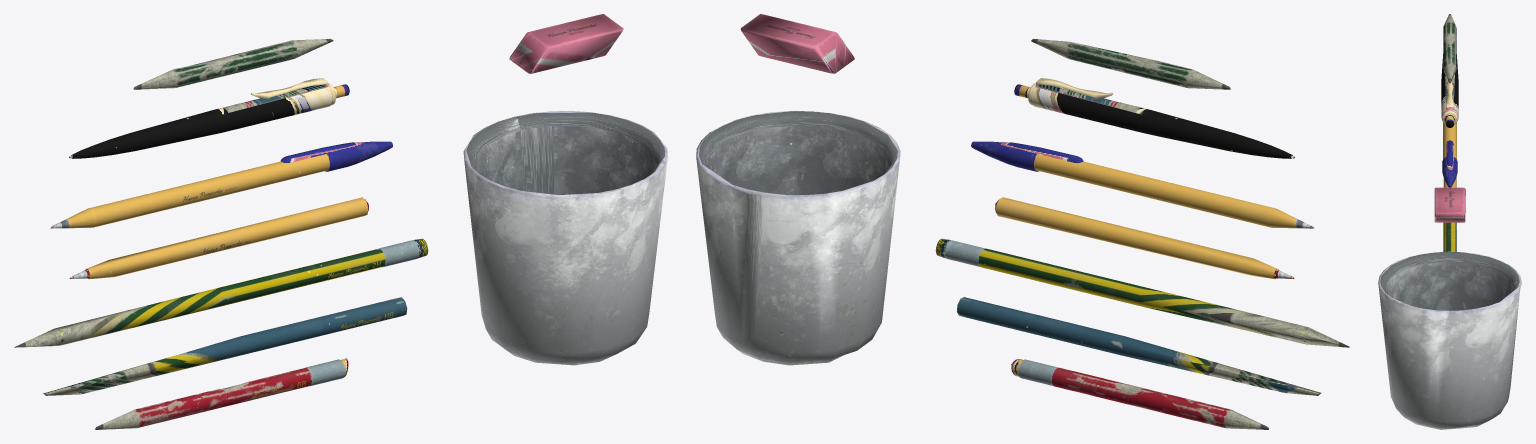
File: stationery_supplies.glb
3 views of the same model, side by side, from view 1: azimuth 30°, elevation 25°; view 2: azimuth 150°, elevation 25°; view 3: azimuth 270°, elevation 25° (orthographic). The views are drawn at different scales.
Parts seen in each view (by area): view 1: stationery_supplies_pencilcup, stationery_supplies_pencil_new_a, stationery_supplies_pen_blue, stationery_supplies_pen_fancy, stationery_supplies_pencil_new_b, stationery_supplies_pen_red, stationery_supplies_pencil_used, stationery_supplies_eraser, stationery_supplies_pencil_old; view 2: stationery_supplies_pencilcup, stationery_supplies_pencil_new_a, stationery_supplies_pen_blue, stationery_supplies_pen_fancy, stationery_supplies_pencil_new_b, stationery_supplies_pen_red, stationery_supplies_pencil_used, stationery_supplies_eraser, stationery_supplies_pencil_old; view 3: stationery_supplies_pencilcup, stationery_supplies_eraser, stationery_supplies_pen_fancy, stationery_supplies_pen_blue, stationery_supplies_pencil_old, stationery_supplies_pencil_new_a.
Boxes of the visible parts, <box> form: stationery_supplies_pencilcup: <box>463,111,667,365</box>; stationery_supplies_pencil_new_a: <box>14,238,428,347</box>; stationery_supplies_pen_blue: <box>50,141,392,228</box>; stationery_supplies_pen_fancy: <box>69,78,349,158</box>; stationery_supplies_pencil_new_b: <box>43,297,407,395</box>; stationery_supplies_pen_red: <box>69,197,368,279</box>; stationery_supplies_pencil_used: <box>95,358,349,429</box>; stationery_supplies_eraser: <box>509,14,623,73</box>; stationery_supplies_pencil_old: <box>133,38,333,89</box>; stationery_supplies_pencilcup: <box>696,111,900,365</box>; stationery_supplies_pencil_new_a: <box>935,238,1349,347</box>; stationery_supplies_pen_blue: <box>971,141,1313,228</box>; stationery_supplies_pen_fancy: <box>1014,78,1294,158</box>; stationery_supplies_pencil_new_b: <box>957,297,1321,395</box>; stationery_supplies_pen_red: <box>995,197,1294,279</box>; stationery_supplies_pencil_used: <box>1011,359,1268,429</box>; stationery_supplies_eraser: <box>740,14,854,73</box>; stationery_supplies_pencil_old: <box>1031,39,1230,89</box>; stationery_supplies_pencilcup: <box>1378,251,1521,429</box>; stationery_supplies_eraser: <box>1434,187,1465,222</box>; stationery_supplies_pen_fancy: <box>1441,54,1458,127</box>; stationery_supplies_pen_blue: <box>1442,122,1457,187</box>; stationery_supplies_pencil_old: <box>1443,14,1456,83</box>; stationery_supplies_pencil_new_a: <box>1443,222,1456,251</box>.
Size of the model in its own units: 0.3018 by 0.1643 by 0.0836.
1 material, 1 textured.
